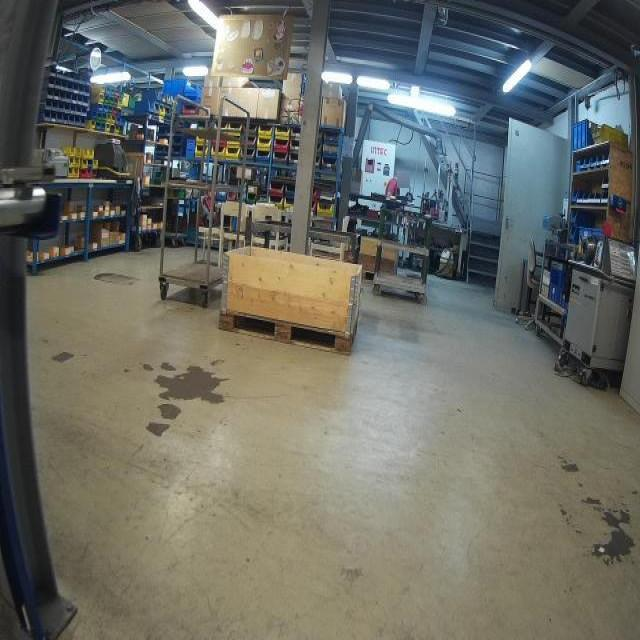pallet: (216, 308, 359, 358)
